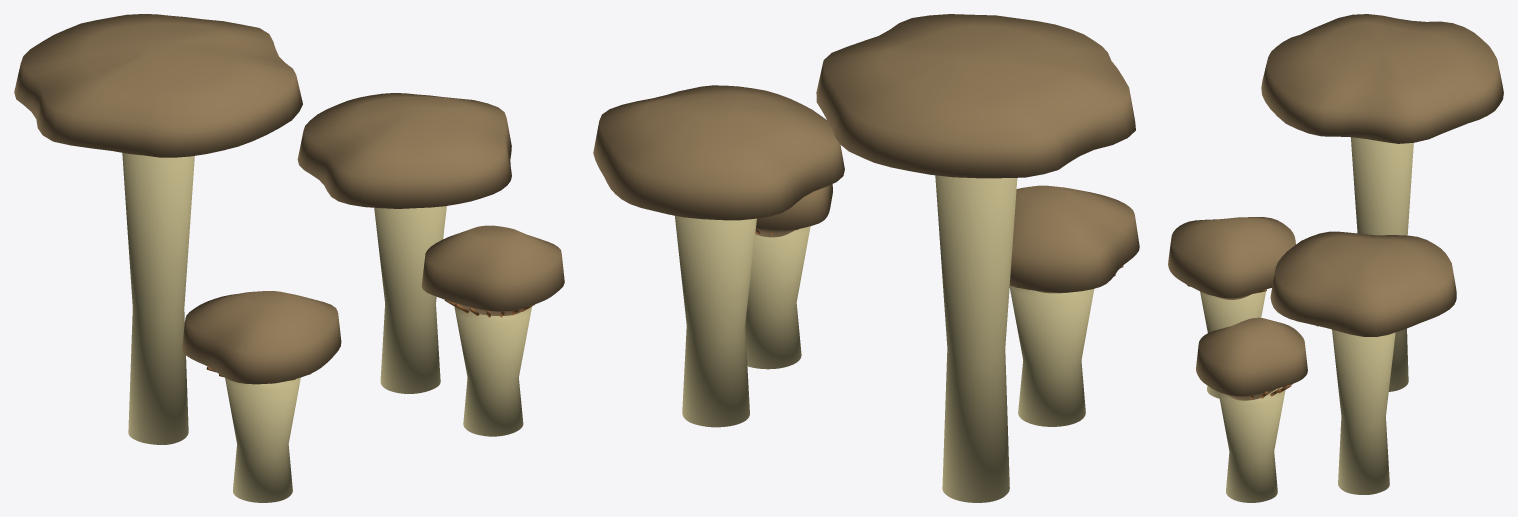
The picture shows the model from 3 angles, left to right: view 1: azimuth 30°, elevation 25°; view 2: azimuth 150°, elevation 25°; view 3: azimuth 270°, elevation 25°; orthographic projection. The views are drawn at different scales.
Parts seen in each view (by area): view 1: TI046 / broad irregular mushroom cap, TI046 / broad irregular mushroom cap.001, TI046 / slightly bowed mushroom stem, TI046 / broad irregular mushroom cap.002, TI046 / slightly bowed mushroom stem.001, TI046 / broad irregular mushroom cap.003, TI046 / slightly bowed mushroom stem.003, TI046 / slightly bowed mushroom stem.002; view 2: TI046 / broad irregular mushroom cap, TI046 / broad irregular mushroom cap.001, TI046 / slightly bowed mushroom stem, TI046 / slightly bowed mushroom stem.001, TI046 / broad irregular mushroom cap.002, TI046 / slightly bowed mushroom stem.002, TI046 / slightly bowed mushroom stem.003, TI046 / broad irregular mushroom cap.003; view 3: TI046 / broad irregular mushroom cap, TI046 / broad irregular mushroom cap.001, TI046 / slightly bowed mushroom stem.001, TI046 / broad irregular mushroom cap.002, TI046 / broad irregular mushroom cap.003, TI046 / slightly bowed mushroom stem, TI046 / slightly bowed mushroom stem.003, TI046 / slightly bowed mushroom stem.002.
Boxes of the visible parts, box(x1,y1,x2,y2) form: TI046 / broad irregular mushroom cap: box(14, 14, 302, 157); TI046 / broad irregular mushroom cap.001: box(297, 93, 511, 208); TI046 / slightly bowed mushroom stem: box(122, 153, 194, 444); TI046 / broad irregular mushroom cap.002: box(182, 291, 341, 384); TI046 / slightly bowed mushroom stem.001: box(374, 206, 446, 393); TI046 / broad irregular mushroom cap.003: box(421, 225, 564, 315); TI046 / slightly bowed mushroom stem.003: box(454, 307, 531, 436); TI046 / slightly bowed mushroom stem.002: box(225, 377, 300, 502); TI046 / broad irregular mushroom cap: box(816, 14, 1135, 178); TI046 / broad irregular mushroom cap.001: box(593, 85, 844, 220); TI046 / slightly bowed mushroom stem: box(935, 175, 1017, 502); TI046 / slightly bowed mushroom stem.001: box(675, 215, 756, 427); TI046 / broad irregular mushroom cap.002: box(1009, 185, 1139, 293); TI046 / slightly bowed mushroom stem.002: box(1009, 285, 1094, 426); TI046 / slightly bowed mushroom stem.003: box(745, 226, 810, 369); TI046 / broad irregular mushroom cap.003: box(755, 184, 832, 237); TI046 / broad irregular mushroom cap: box(1261, 14, 1503, 143); TI046 / broad irregular mushroom cap.001: box(1270, 231, 1456, 336); TI046 / slightly bowed mushroom stem.001: box(1332, 329, 1395, 494); TI046 / broad irregular mushroom cap.002: box(1168, 217, 1295, 299); TI046 / broad irregular mushroom cap.003: box(1196, 317, 1307, 400); TI046 / slightly bowed mushroom stem: box(1351, 137, 1413, 391); TI046 / slightly bowed mushroom stem.003: box(1218, 387, 1285, 502); TI046 / slightly bowed mushroom stem.002: box(1200, 291, 1265, 398).
Size of the model in its own units: 2.51 by 1.98 by 1.8.
